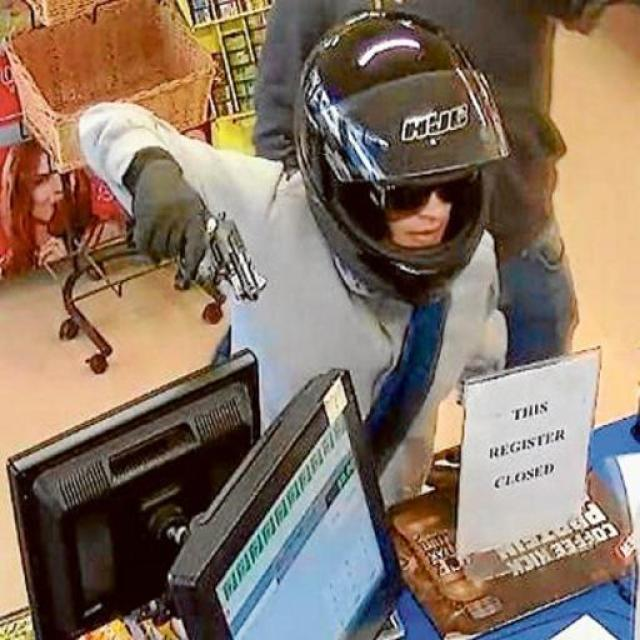pistol: (130, 211, 267, 306)
